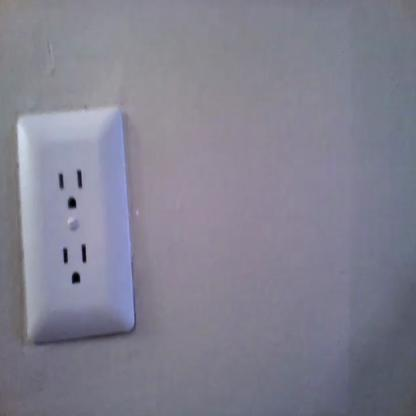OUTLET: (15, 111, 135, 343)
